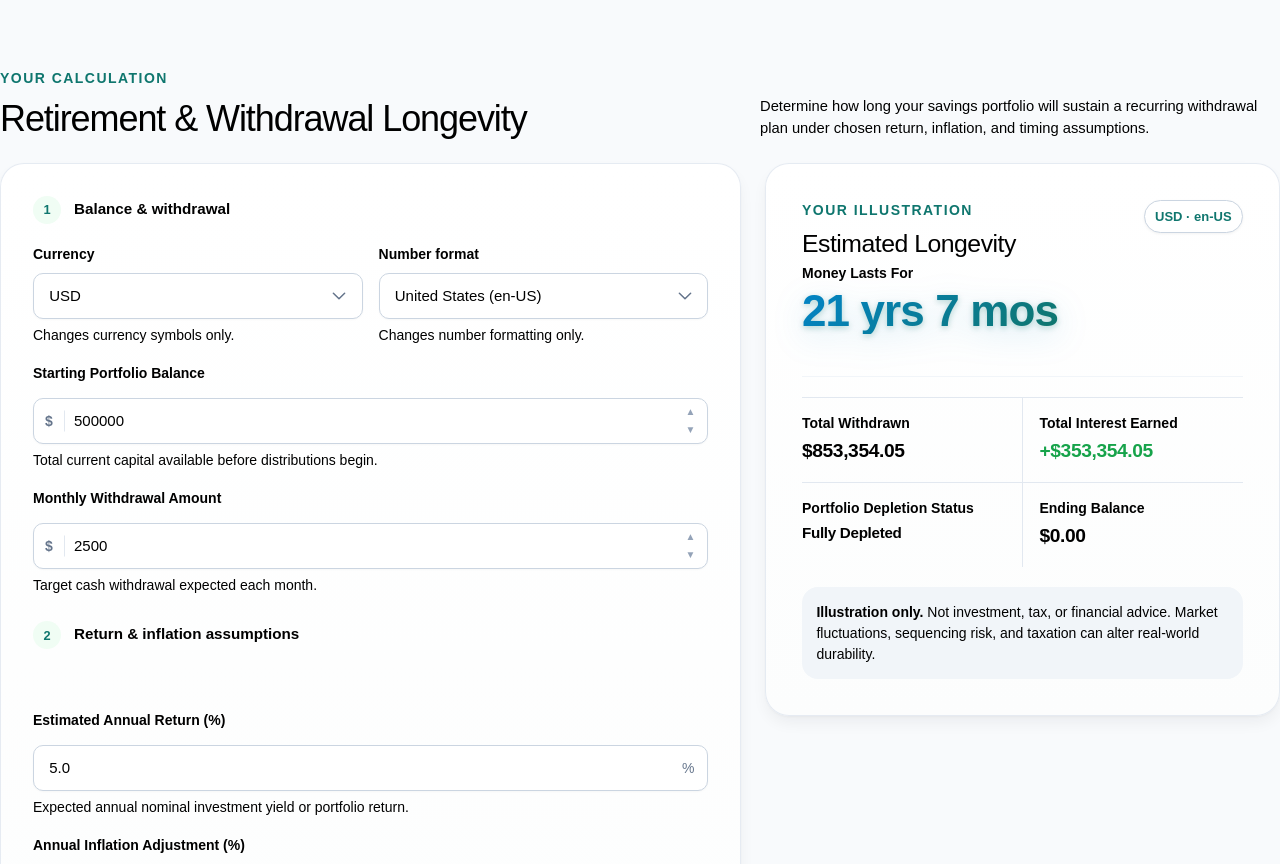
it: MoneyDurationWorkspace Component › displays validation error when entering invalid starting balance
Replace the text in the field named "initialBalance" with "-500": (370, 421) [33,398,708,444]
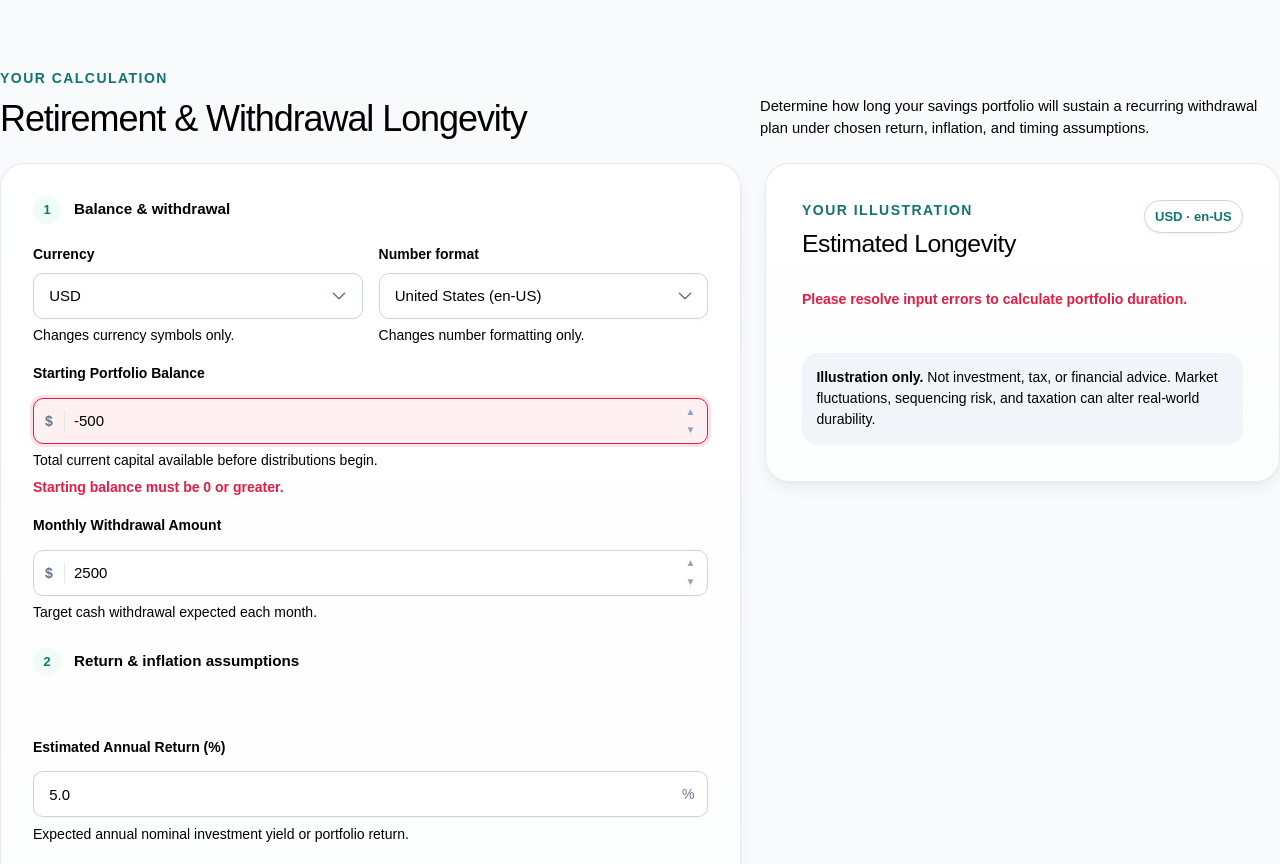
Expected: the text with id "initialBalance-error" reads "Starting balance must be 0 or greater.", [33,479,284,495]
